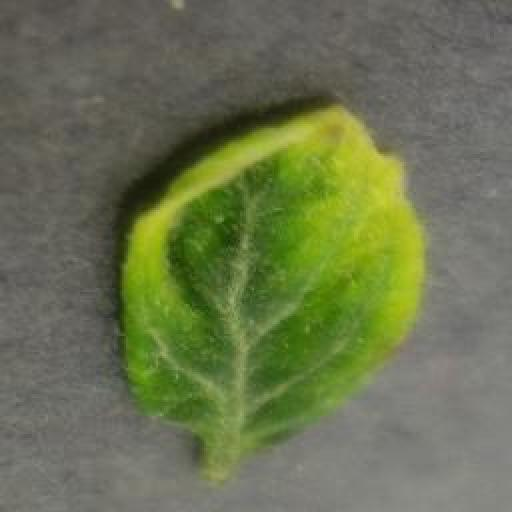disease_tomato: (119, 103, 428, 437)
